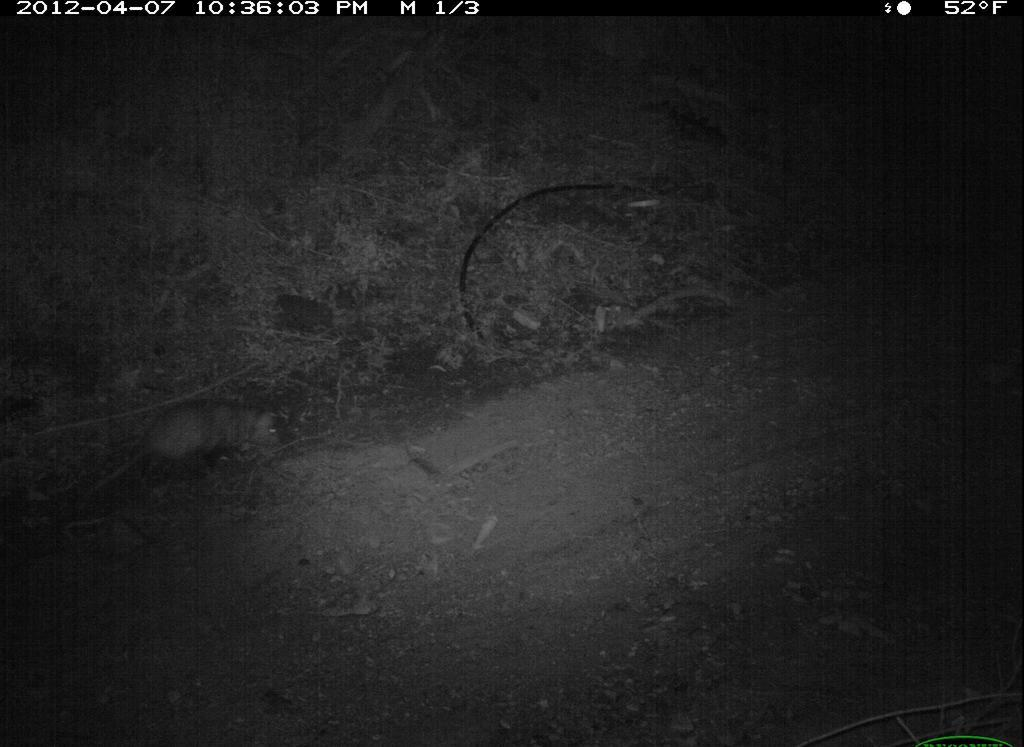opossum: (80, 391, 287, 506)
